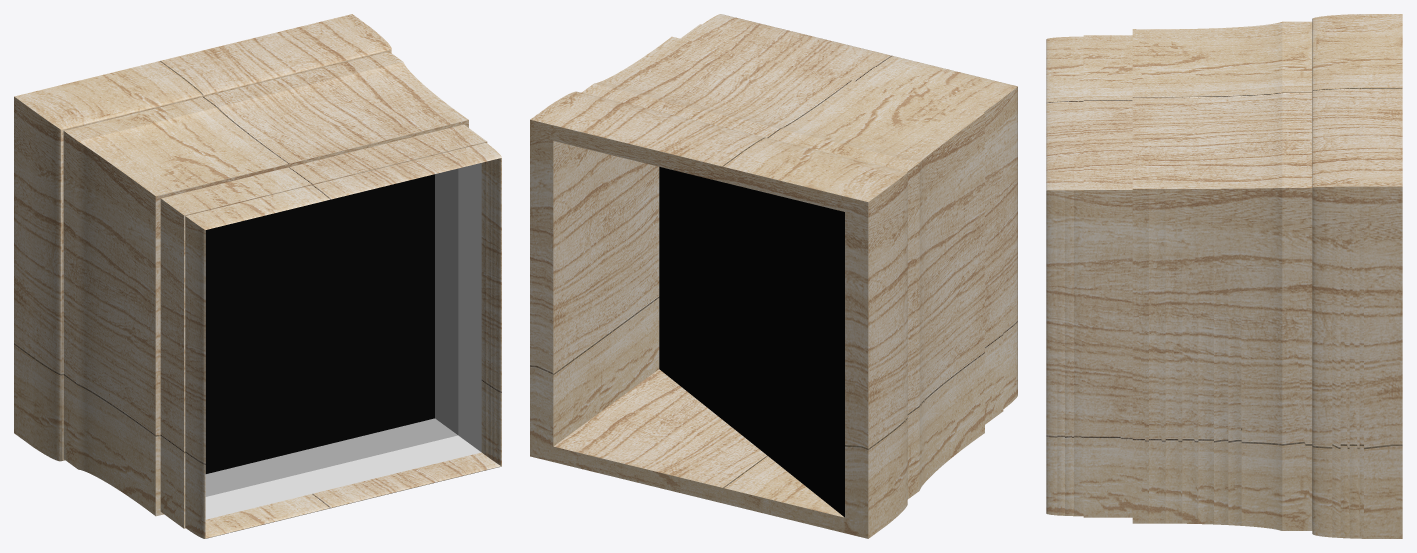
Rendered from Frame1Wooden.glb.
3 renders of one model, left to right at view 1: azimuth 30°, elevation 25°; view 2: azimuth 150°, elevation 25°; view 3: azimuth 270°, elevation 25°, orthographic. The views are drawn at different scales.
Visible parts, largest first — view 1: Material3.003, Material2.001, A_PaintingMesh, Material3.001; view 2: Material3.003, Material3; view 3: Material3.003.
Boxes of the visible parts, x1,y1,x2,y2 form: Material3.003: [14, 14, 501, 538]; Material2.001: [206, 169, 457, 496]; A_PaintingMesh: [205, 174, 434, 473]; Material3.001: [205, 163, 481, 519]; Material3.003: [530, 14, 1017, 538]; Material3: [659, 167, 844, 517]; Material3.003: [1046, 14, 1402, 538].
Bounding box in the file's own units: 1.14 × 1.09 × 0.9992.
6 materials, 2 textured.
